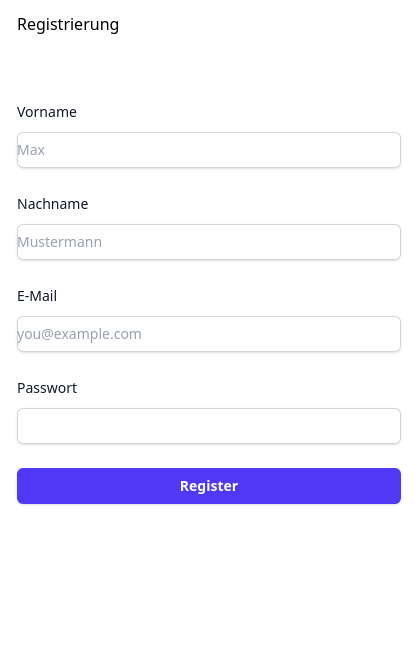
Scenario: Register › show errors when form is empty
Click the button "Register" at x=209, y=486, box [17,468,401,504]
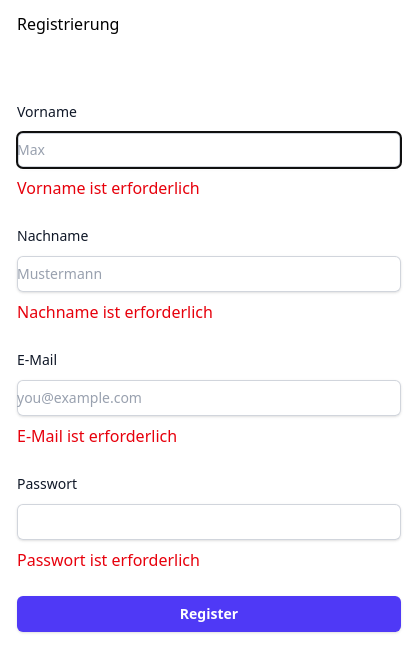
Now the text "Vorname ist erforderlich" is shown, box [17,177,200,199]
Now the text "Nachname ist erforderlich" is shown, box [17,301,213,323]
Now the text "E-Mail ist erforderlich" is shown, box [17,425,177,447]
